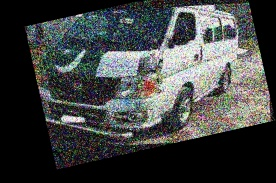van: (25, 0, 266, 169)
